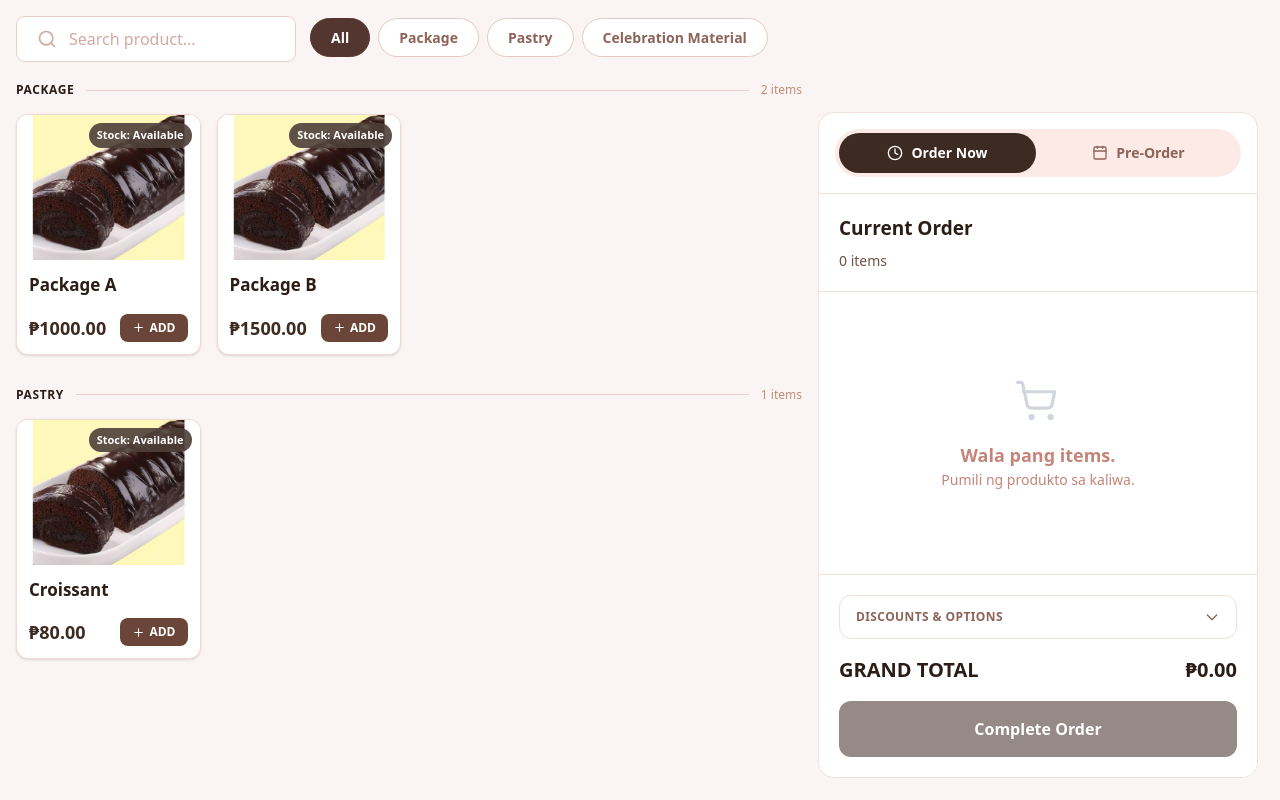
it: POSPage › finalizes transaction and resets cart
Expected: the heading "Croissant" is shown, [29, 578, 109, 600]
# Add Croissant to cart
Click the button "ADD" next to "80.00" at (154, 632), box [120, 618, 188, 646]
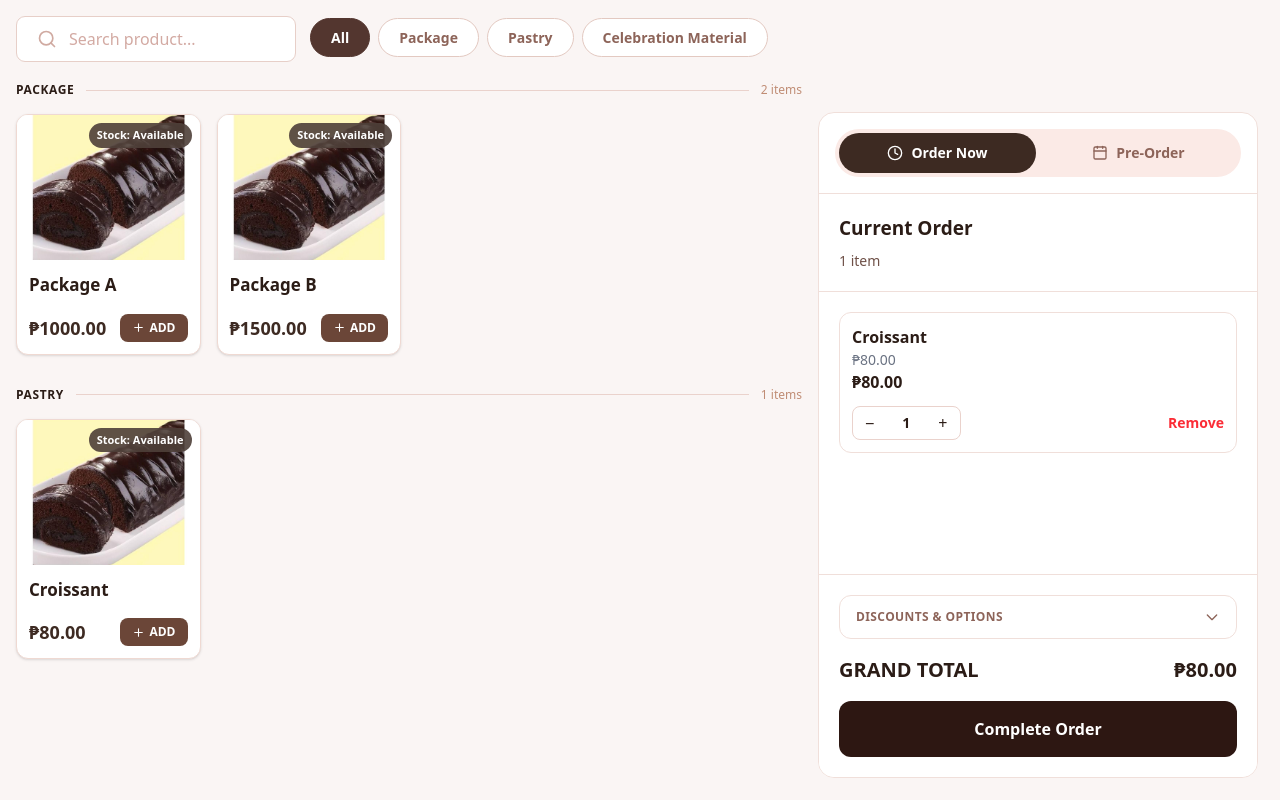
# Open Review modal
Click the button "Complete Order" at (1038, 729), box [839, 701, 1237, 757]
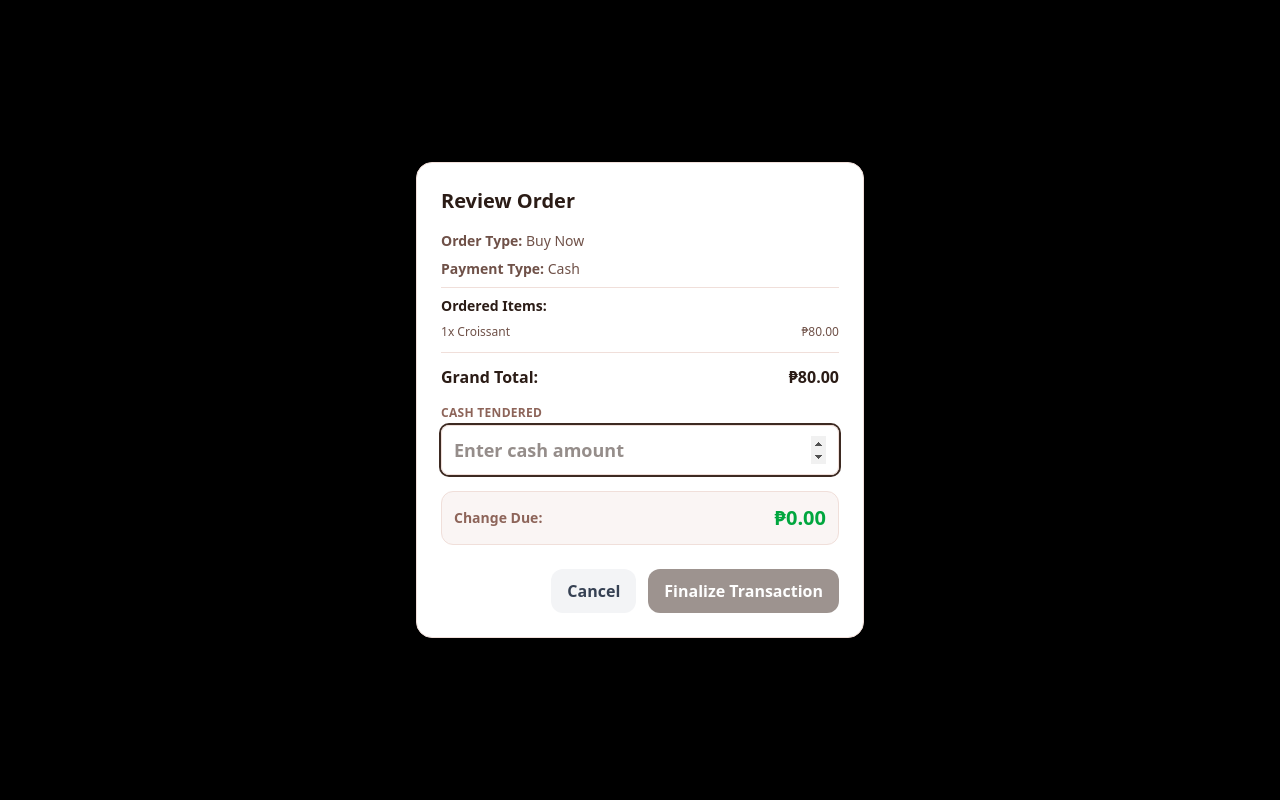
# Enter sufficient cash
Type "100" into the number field with placeholder "Enter cash amount" at (640, 450), box [441, 425, 839, 475]
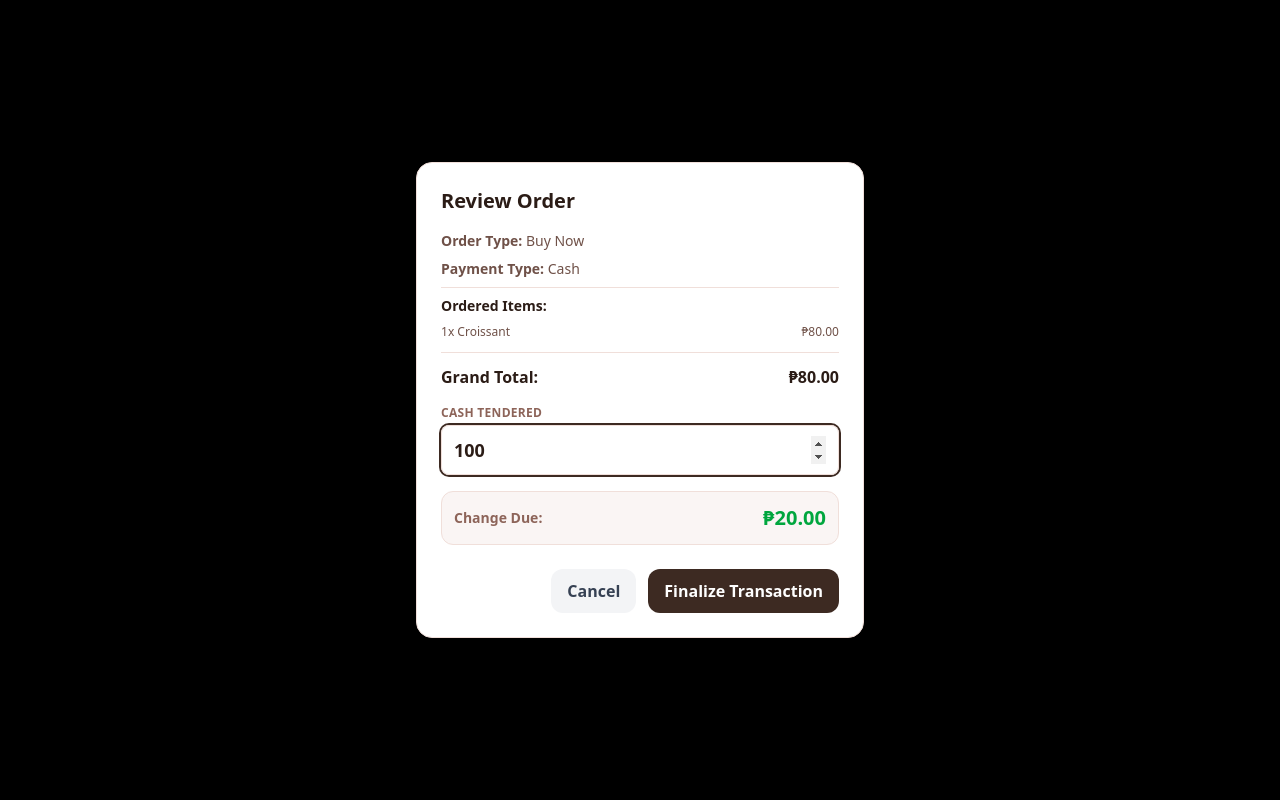
# Click finalize
Click the button "Finalize Transaction" at (744, 591), box [648, 569, 839, 613]
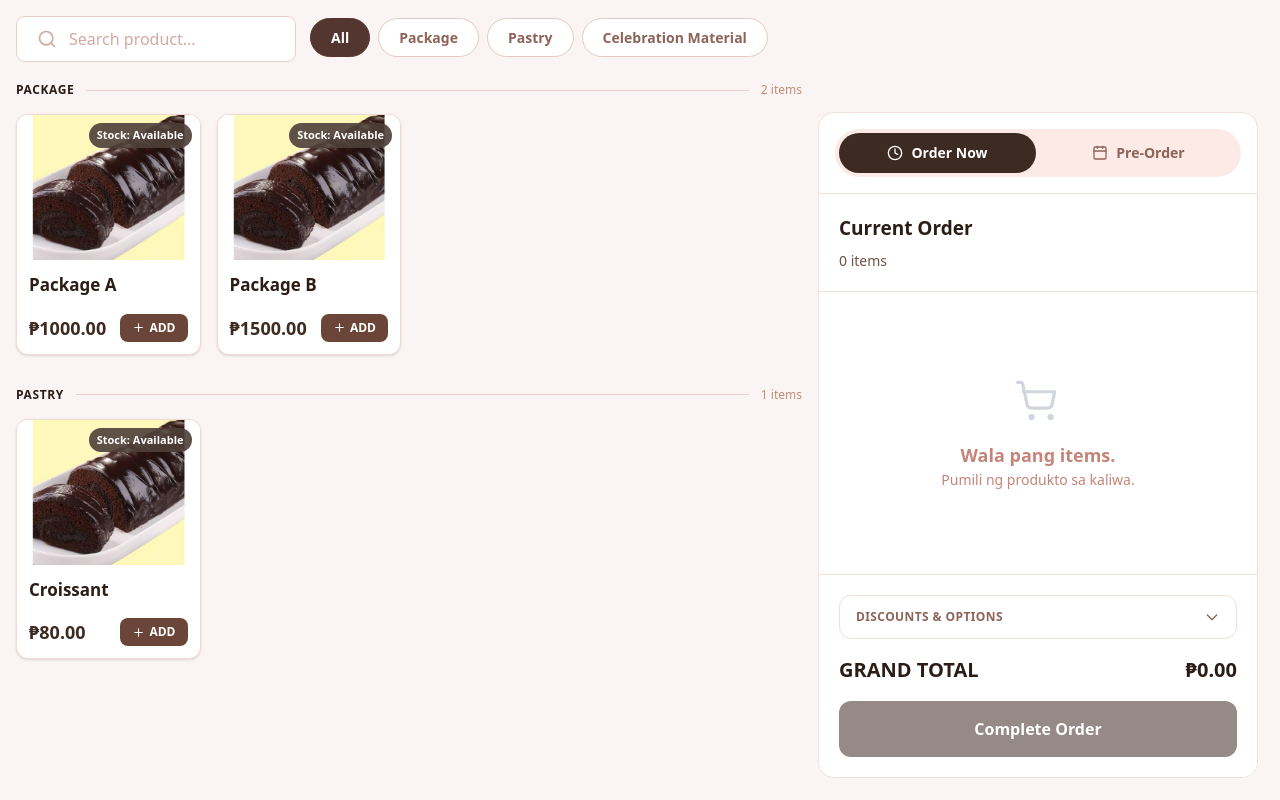
Expected: the heading "Review Order" is gone
Expected: the text "Wala pang items." is shown, [961, 442, 1115, 469]
